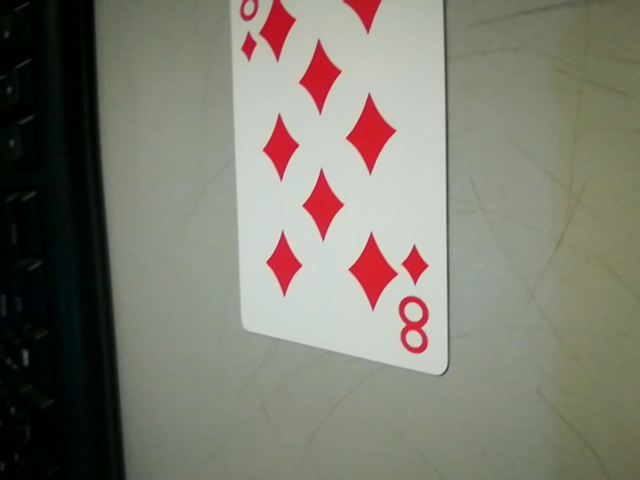fk 8: (387, 239, 440, 365)
